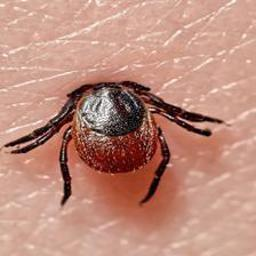Ixodes scapularis: (4, 80, 227, 205)
